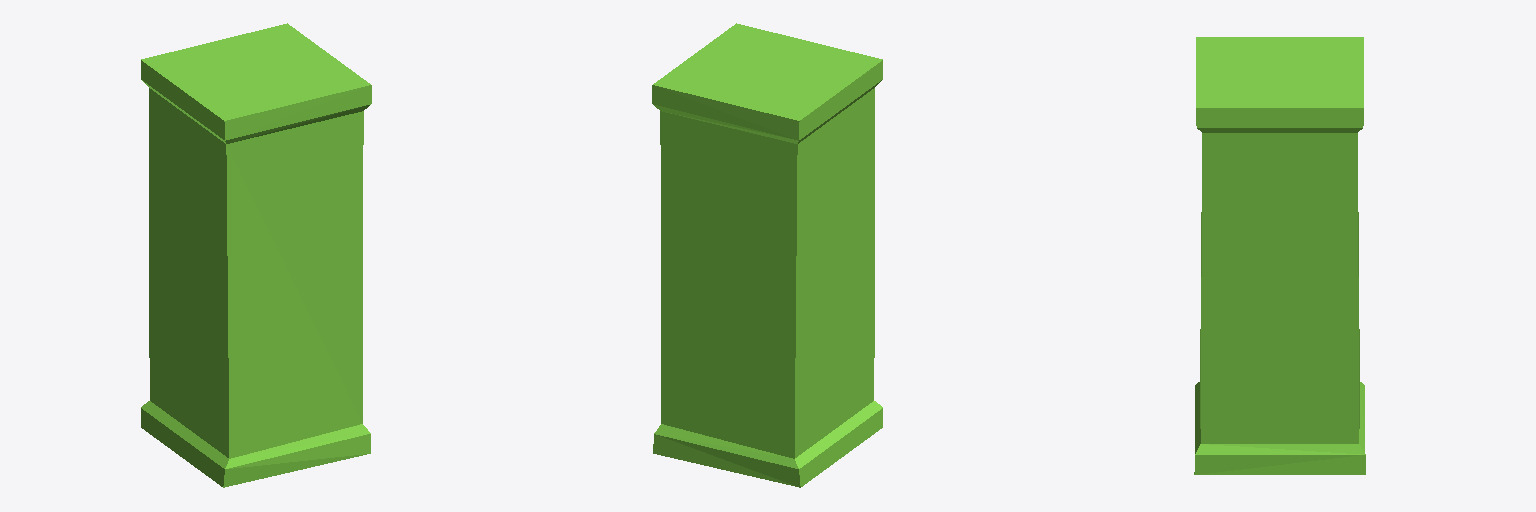
The model's file is column.obj.
The picture shows the model from 3 angles: view 1: azimuth 30°, elevation 25°; view 2: azimuth 150°, elevation 25°; view 3: azimuth 270°, elevation 25°; orthographic projection.
Parts seen in each view (by area): view 1: column; view 2: column; view 3: column.
Part boxes in pixels (x1,y1,x2,y2): column: (141,23,371,487); column: (652,23,882,487); column: (1194,37,1365,474).
Bounding box in the file's own units: 126 × 300 × 127.